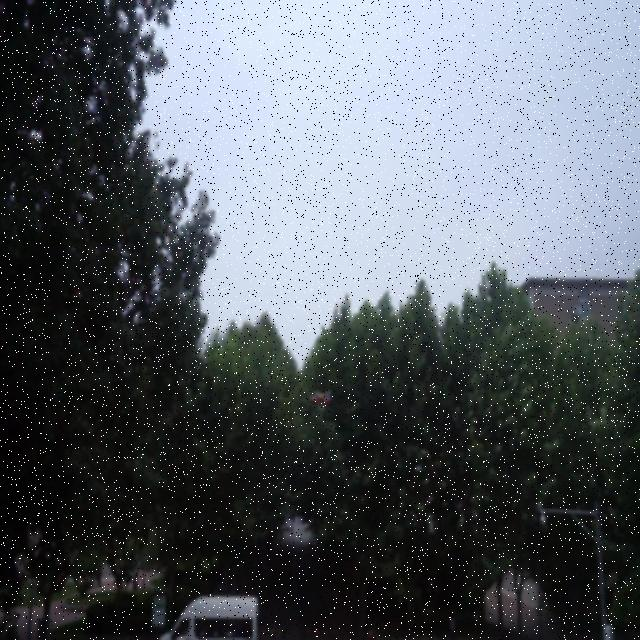UAV: (309, 391, 332, 410)
